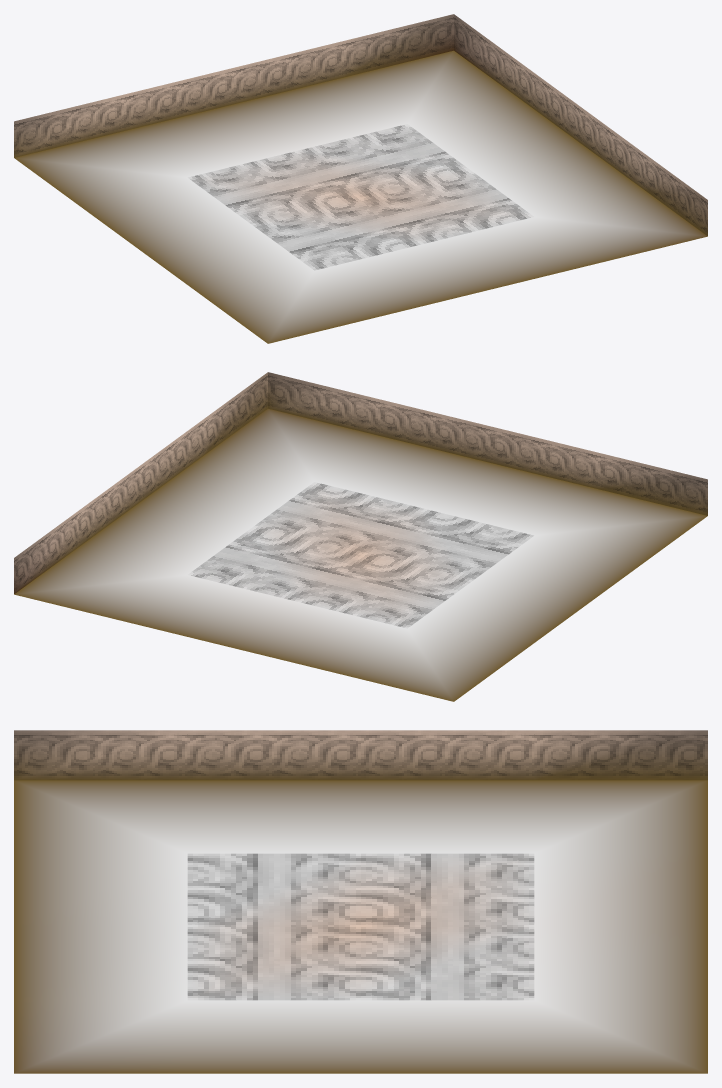
The model's file is map1.glb.
3 views of the same model, one above another, from view 1: azimuth 30°, elevation 25°; view 2: azimuth 150°, elevation 25°; view 3: azimuth 270°, elevation 25° (orthographic). The views are drawn at different scales.
Parts seen in each view (by area): view 1: Plane; view 2: Plane; view 3: Plane.
Boxes of the visible parts, box(x1,y1,x2,y2) form: Plane: box(14, 14, 707, 343); Plane: box(14, 372, 707, 701); Plane: box(14, 730, 707, 1073).
Size of the model in its own units: 16 by 1.27 by 16.
Materials: 2 (1 with a texture image).
